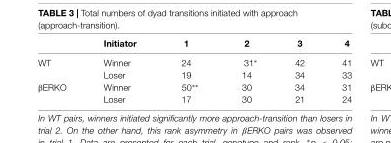table: (37, 37, 351, 103)
table column: (84, 37, 158, 103), (158, 37, 219, 103), (219, 37, 275, 103), (37, 37, 84, 103), (275, 37, 322, 103), (322, 37, 351, 103)
table column header: (37, 37, 351, 52)
table row: (37, 52, 351, 68), (37, 37, 351, 52), (37, 68, 351, 80), (37, 80, 351, 92), (37, 92, 351, 103)
table spanning cell: (37, 52, 84, 80), (37, 80, 84, 103)
